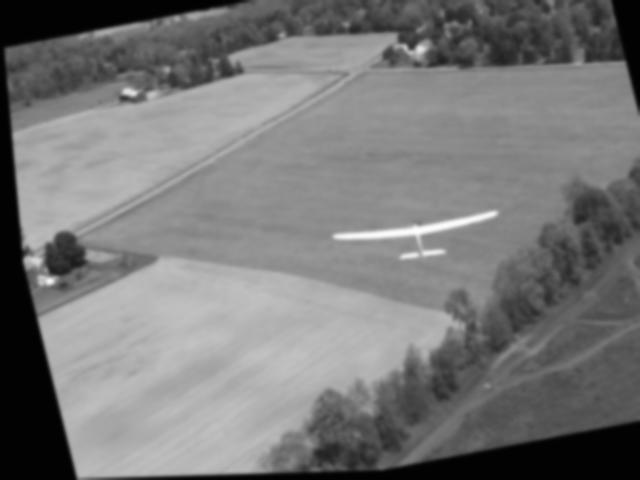hedef: (316, 194, 506, 288)
